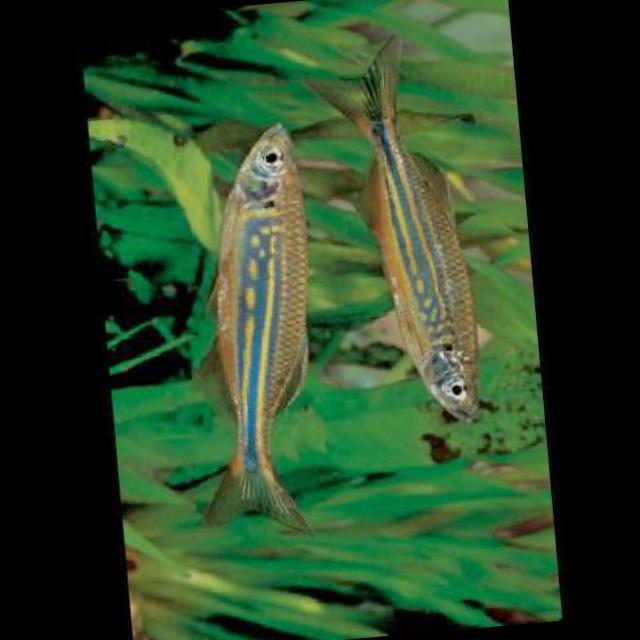ZebraFish: (304, 31, 487, 436), (166, 119, 330, 543)
